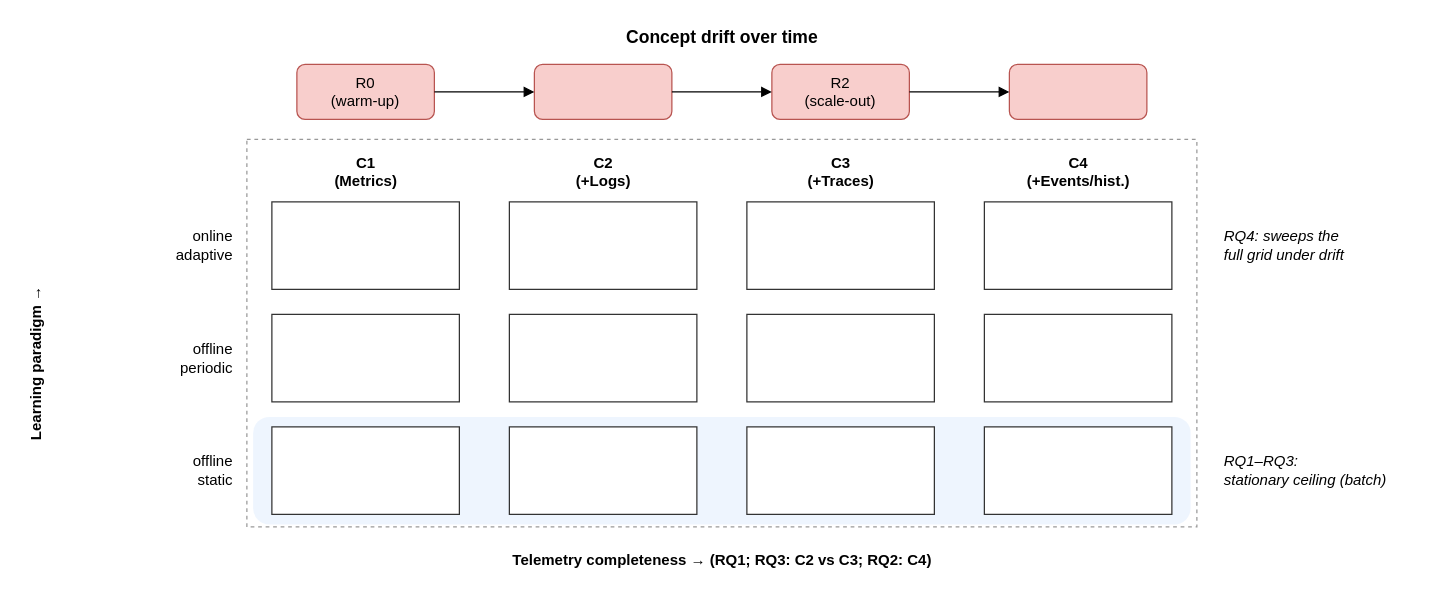
Some shapes in this 1455 by 596 pixel diagram are drawn without their labels. The centre of each missing label's shape, as x and y in pixels:
"R1 (latency reg.)" goes at [602,91].
"R3 (combined)" goes at [1077,91].
